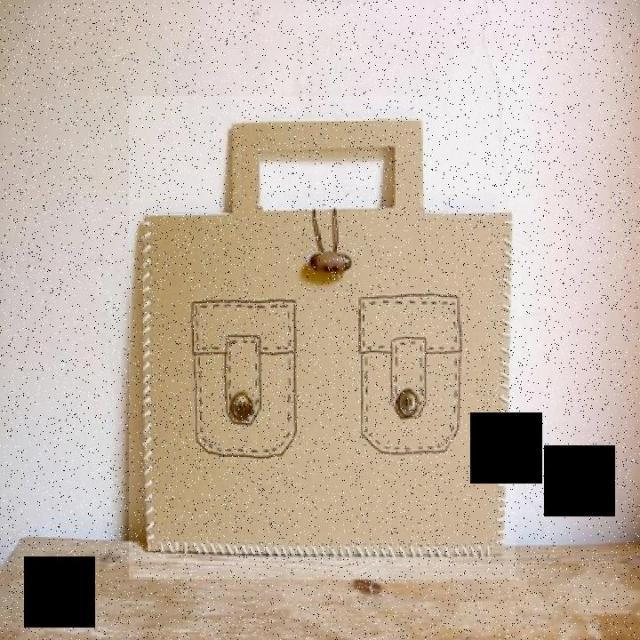box: (128, 96, 516, 580)
